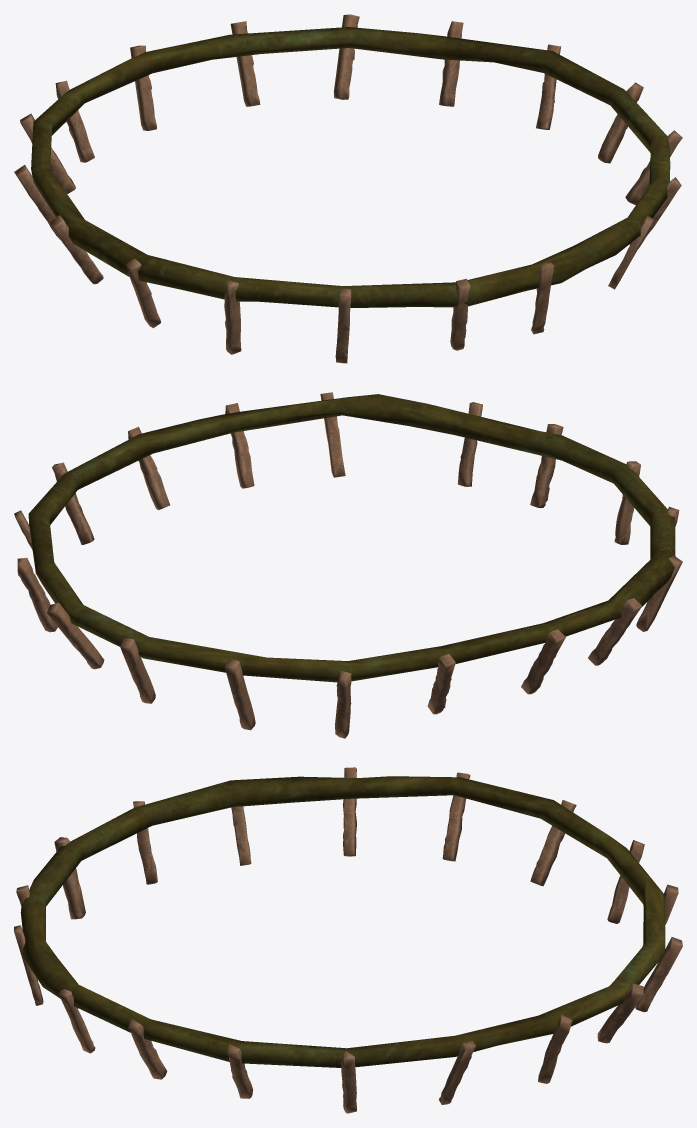
File: SM_wood_support_roof.fbx
3 views of the same model, one above another, from view 1: azimuth 30°, elevation 25°; view 2: azimuth 150°, elevation 25°; view 3: azimuth 270°, elevation 25° (orthographic).
Parts seen in each view (by area): view 1: wood_support_roof; view 2: wood_support_roof; view 3: wood_support_roof.
Part boxes in pixels (left/top/right/bottom): wood_support_roof: left=14, top=14, right=682, bottom=363; wood_support_roof: left=14, top=392, right=682, bottom=738; wood_support_roof: left=14, top=767, right=682, bottom=1113.
Size of the model in its own units: 1410 by 194 by 1383.
